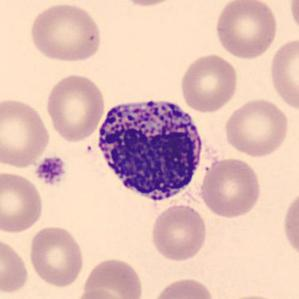Basophil: (91, 90, 208, 210)
Platelets: (33, 155, 67, 185)
RBC: (26, 2, 103, 63), (44, 72, 106, 144), (221, 97, 292, 158), (198, 156, 264, 219), (212, 0, 279, 60), (0, 95, 52, 169), (26, 224, 85, 289), (178, 52, 240, 113), (149, 202, 209, 262), (0, 169, 46, 235), (80, 256, 145, 299), (268, 36, 298, 112), (0, 234, 31, 296), (149, 275, 215, 299), (281, 187, 299, 262), (71, 287, 126, 299), (113, 0, 182, 8), (287, 0, 299, 39), (220, 292, 286, 299)
